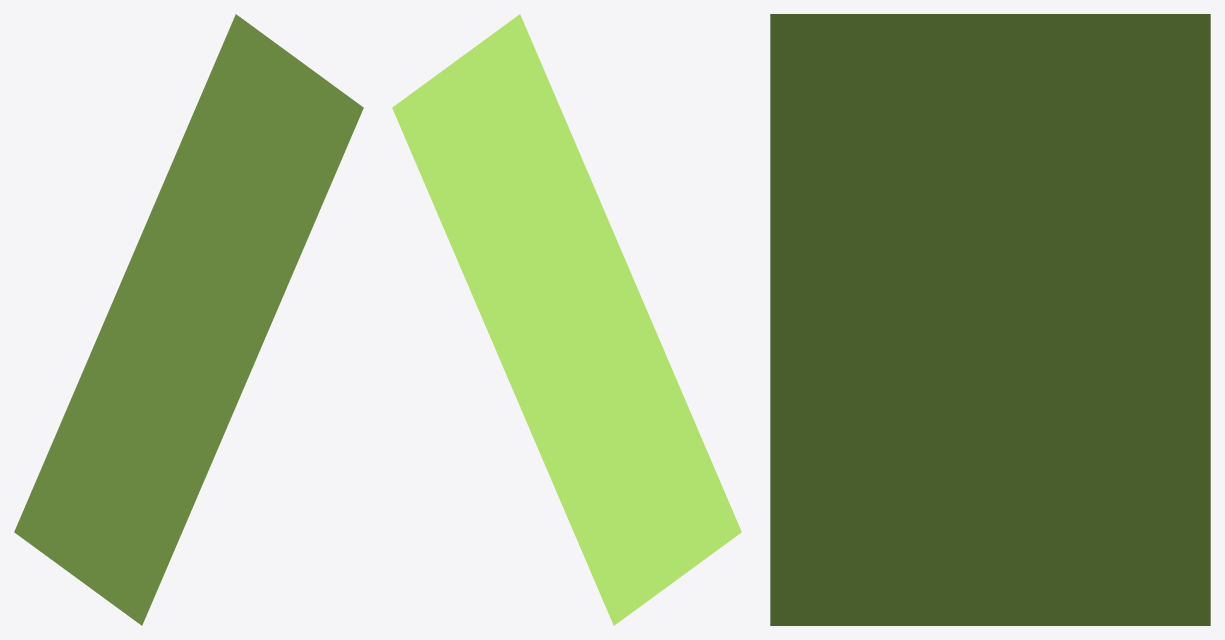
File: 0.25*math.sin(4*(x**2 + y**2)).obj
The picture shows the model from 3 angles, left to right: view 1: azimuth 30°, elevation 25°; view 2: azimuth 150°, elevation 25°; view 3: azimuth 270°, elevation 25°; orthographic projection. The views are drawn at different scales.
Bounding box in the file's own units: 4 × 8 × 4.
